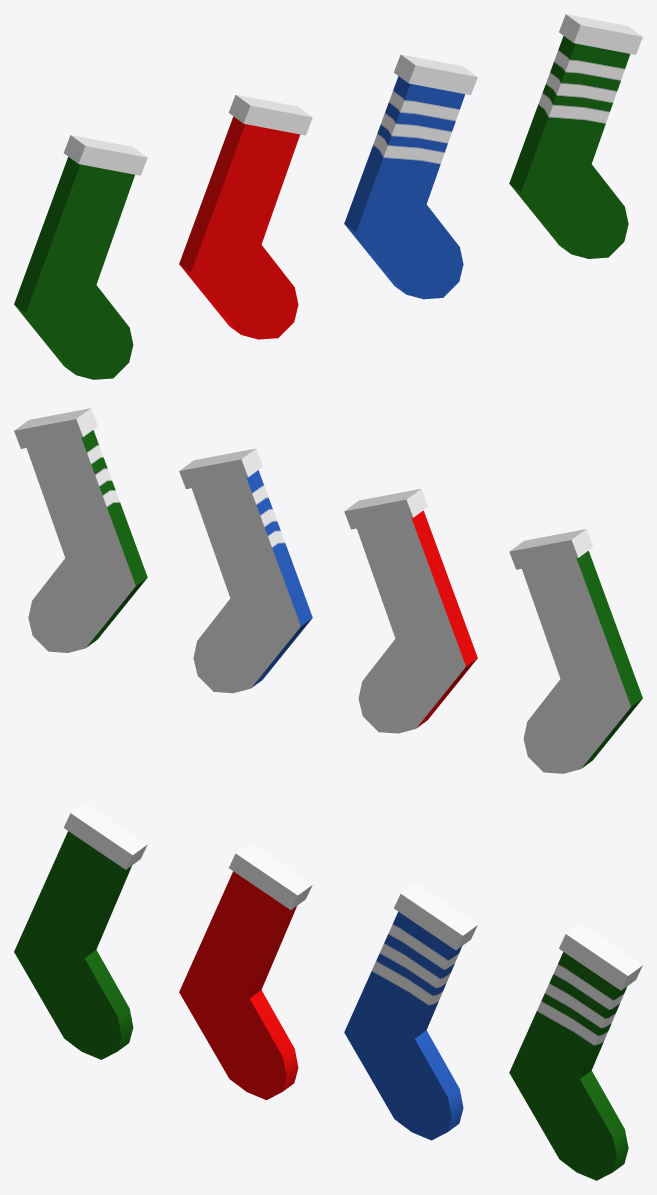
The model's file is Socks.FBX.
The picture shows the model from 3 angles, top to bottom: view 1: azimuth 30°, elevation 25°; view 2: azimuth 150°, elevation 25°; view 3: azimuth 330°, elevation 25°; orthographic projection.
Parts seen in each view (by area): view 1: Socks003, Socks004, Socks005; view 2: Socks003, Socks004, Socks005; view 3: Socks003, Socks004, Socks005.
Boxes of the visible parts, <box> form: Socks003: <box>14,95,312,379</box>; Socks004: <box>509,14,642,258</box>; Socks005: <box>344,54,477,299</box>; Socks003: <box>344,489,642,773</box>; Socks004: <box>14,408,147,652</box>; Socks005: <box>179,448,312,693</box>; Socks003: <box>14,802,312,1099</box>; Socks004: <box>509,923,642,1180</box>; Socks005: <box>344,883,477,1140</box>.
Bounding box in the file's own units: 90.18 × 3.79 × 33.71.
